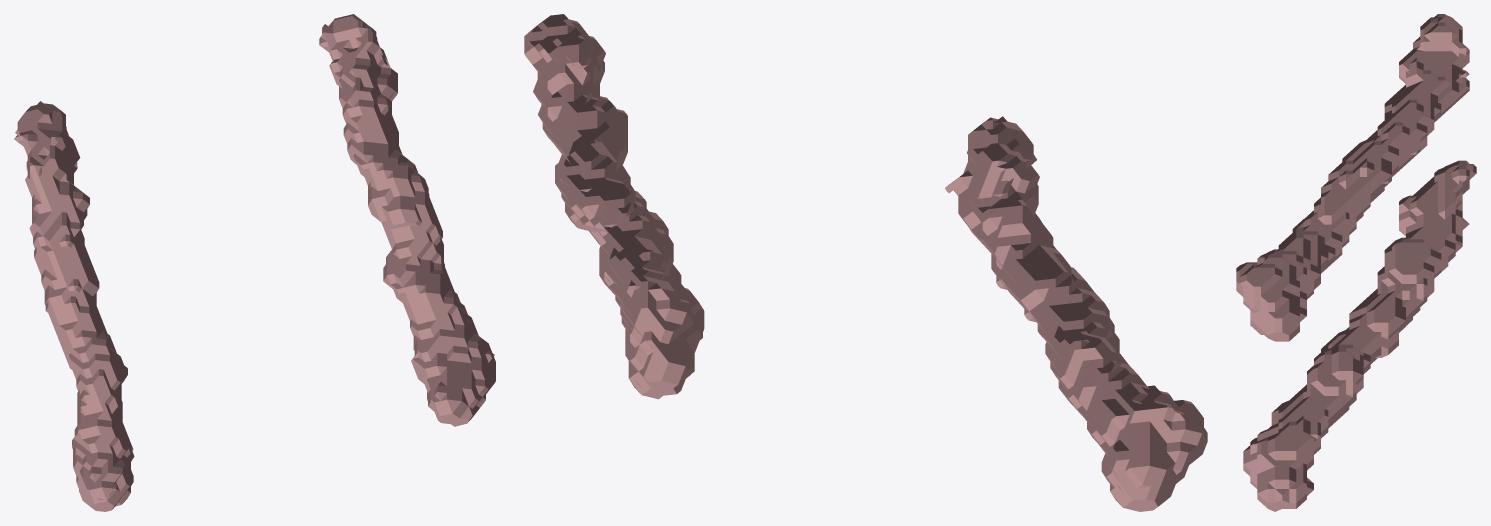
The model's file is region_0077_LFB__lateral_forebrain_bundle_.glb.
3 renders of one model, left to right at view 1: azimuth 30°, elevation 25°; view 2: azimuth 150°, elevation 25°; view 3: azimuth 270°, elevation 25°, orthographic. The views are drawn at different scales.
Parts seen in each view (by area): view 1: world; view 2: world; view 3: world.
Boxes of the visible parts, left/top/right/bottom form: world: left=14, top=14, right=495, bottom=511; world: left=524, top=14, right=1207, bottom=511; world: left=1236, top=14, right=1476, bottom=511.
Size of the model in its own units: 0.536 by 0.416 by 0.272.
